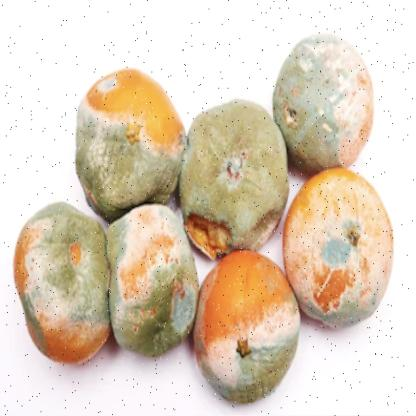rotten: (15, 32, 393, 405)
